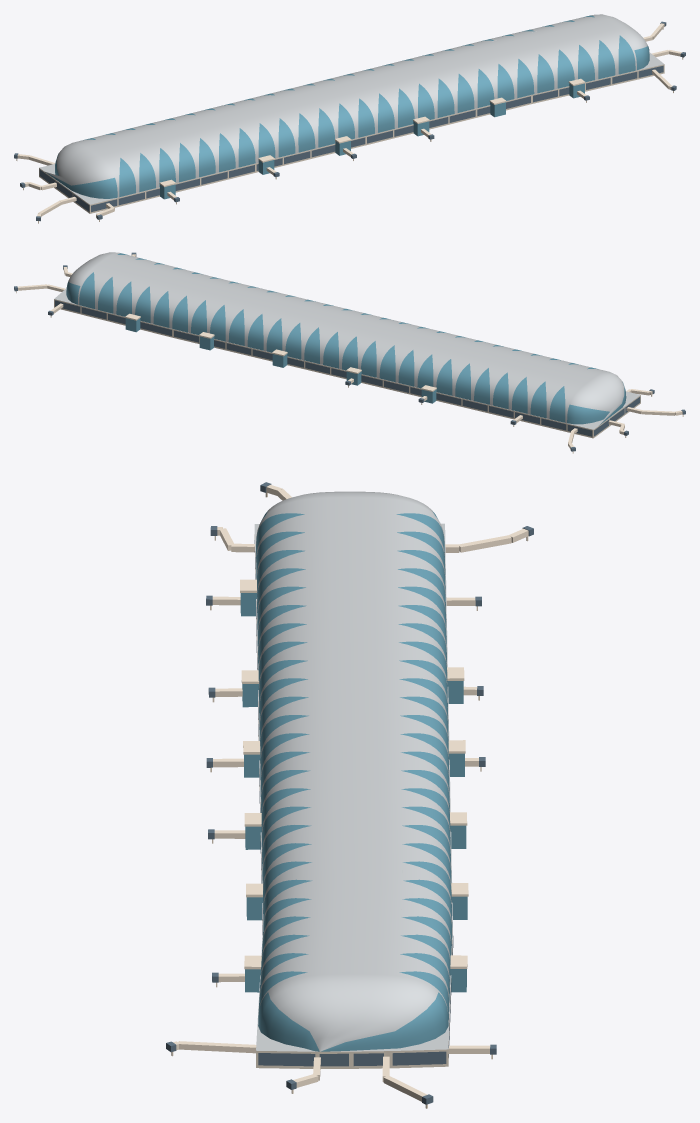
Rendered from dubai-dxb-concourse-a.detail.glb.
3 renders of one model, top to bottom at view 1: azimuth 30°, elevation 25°; view 2: azimuth 150°, elevation 25°; view 3: azimuth 270°, elevation 25°, orthographic. The views are drawn at different scales.
Parts seen in each view (by area): view 1: Dubai International Airport Concourse A; view 2: Dubai International Airport Concourse A; view 3: Dubai International Airport Concourse A.
Boxes of the visible parts, box(x1,y1,x2,y2) form: Dubai International Airport Concourse A: box(14, 14, 685, 223); Dubai International Airport Concourse A: box(14, 252, 685, 453); Dubai International Airport Concourse A: box(166, 482, 533, 1108).
Bounding box in the file's own units: 765 × 40 × 193.
